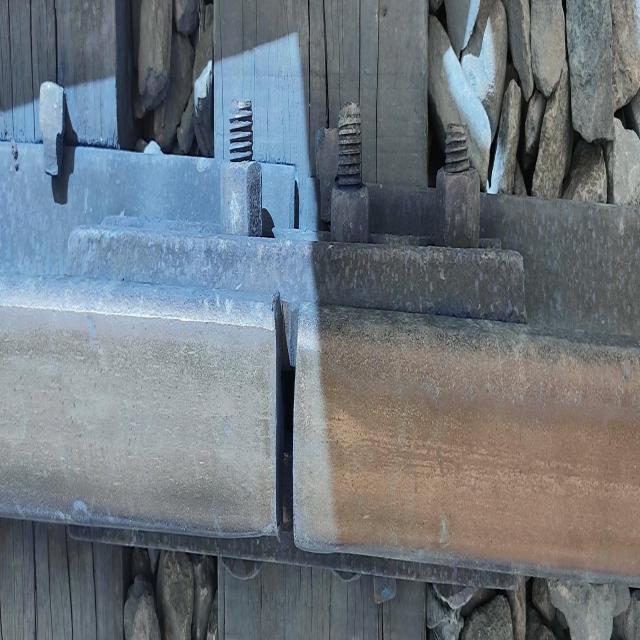Defective Joint: (68, 72, 544, 616)
